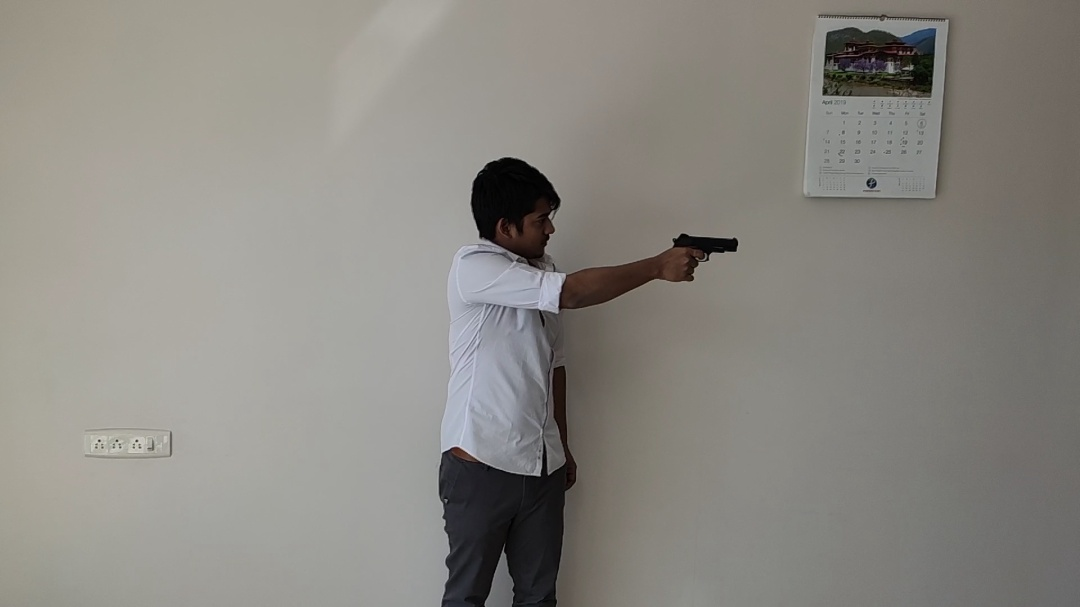gun: (671, 232, 739, 263)
